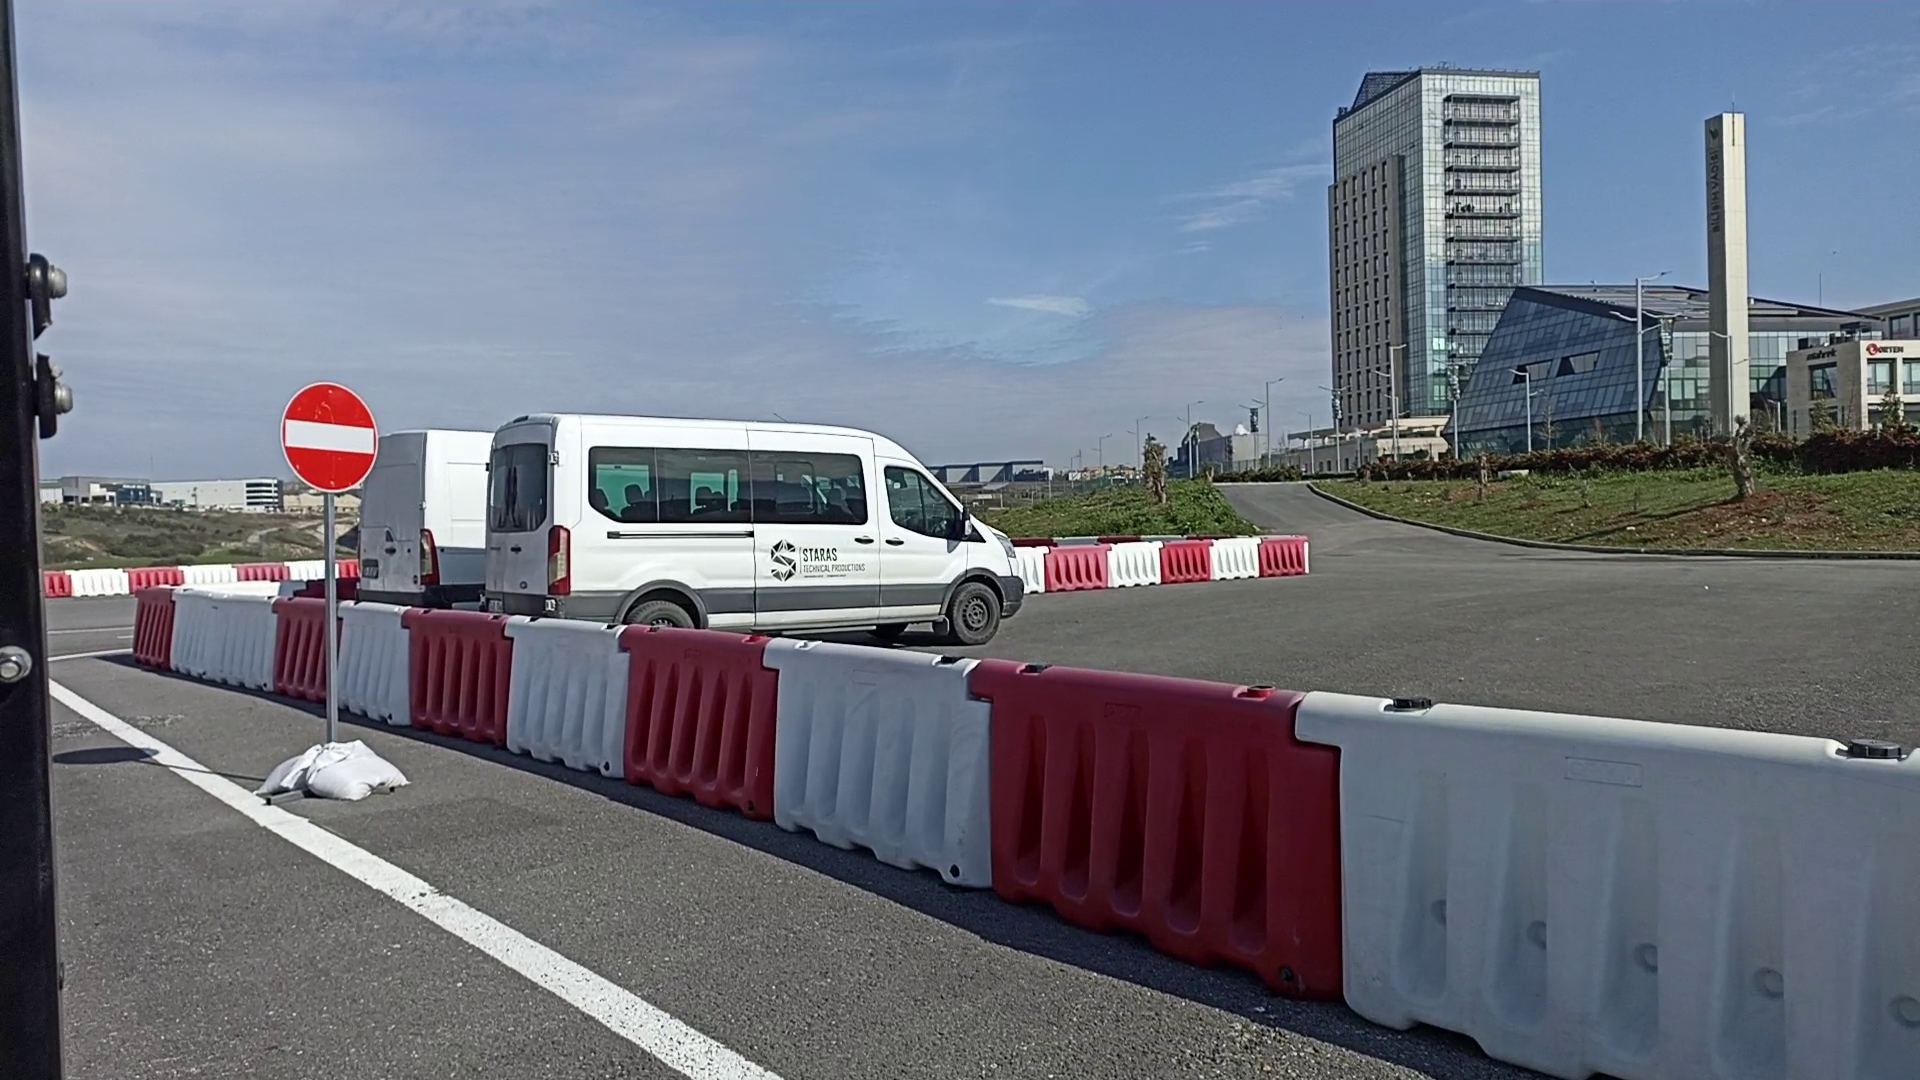noentryway: (280, 380, 381, 495)
